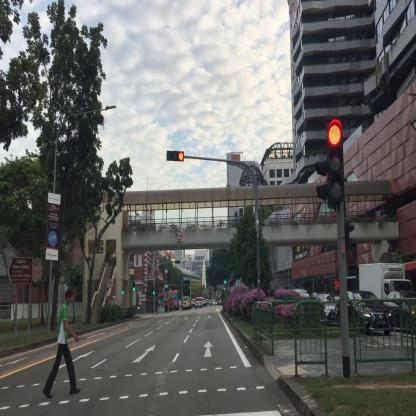red_traffic_light: (327, 121, 343, 201), (166, 149, 184, 163)
